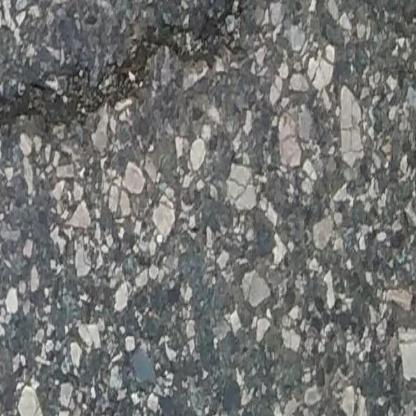Cracks: (0, 0, 274, 141)
